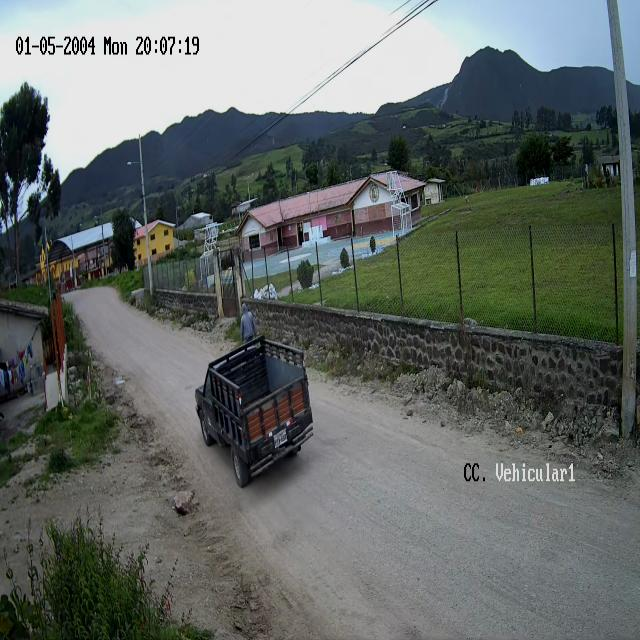CMT: (194, 340, 314, 488)
